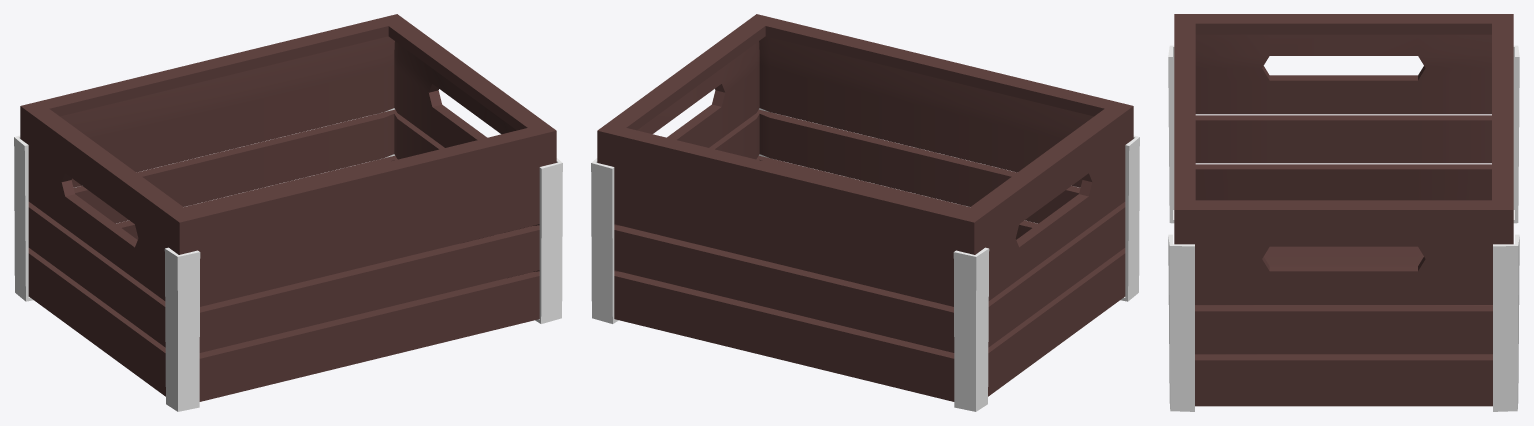
Rendered from woodencrate.fbx.
3 views of the same model, side by side, from view 1: azimuth 30°, elevation 25°; view 2: azimuth 150°, elevation 25°; view 3: azimuth 270°, elevation 25° (orthographic). The views are drawn at different scales.
Parts seen in each view (by area): view 1: Cube, Cube.001; view 2: Cube, Cube.001; view 3: Cube, Cube.001.
Part boxes in pixels (left/top/right/bottom): Cube: left=20, top=14, right=556, bottom=401; Cube.001: left=14, top=108, right=562, bottom=411; Cube: left=597, top=14, right=1133, bottom=401; Cube.001: left=591, top=108, right=1139, bottom=411; Cube: left=1174, top=14, right=1513, bottom=406; Cube.001: left=1168, top=45, right=1519, bottom=411.
Size of the model in its own units: 39.15 by 18.24 by 28.88.
